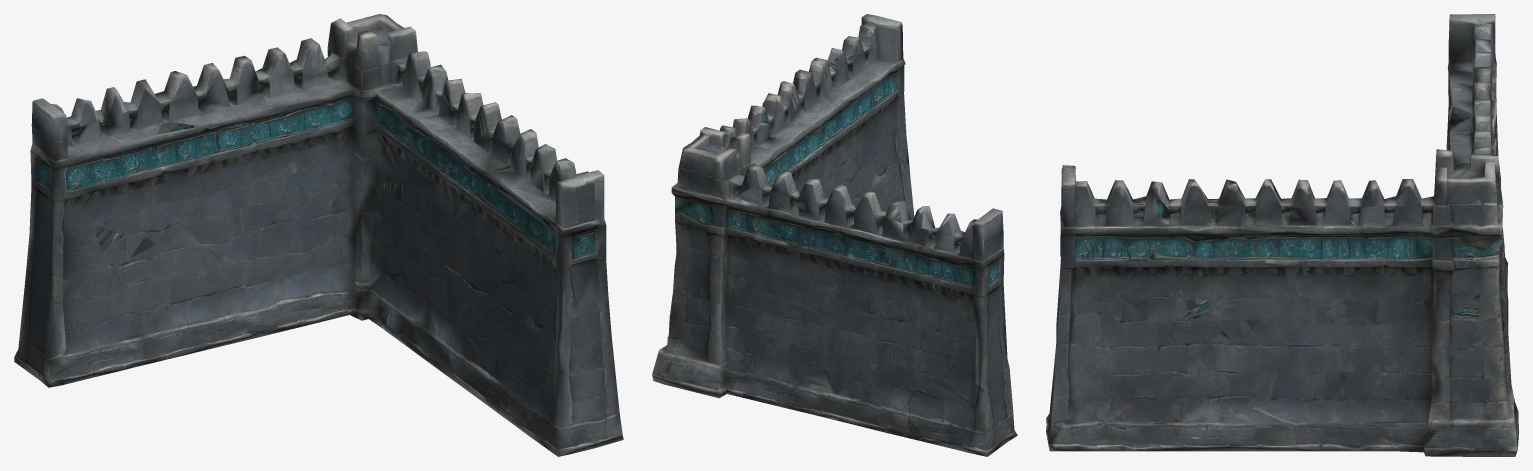
The model's file is castle_wall_corner_stone_b.glb.
3 views of the same model, side by side, from view 1: azimuth 30°, elevation 25°; view 2: azimuth 150°, elevation 25°; view 3: azimuth 270°, elevation 25° (orthographic). The views are drawn at different scales.
Parts seen in each view (by area): view 1: tripo_node_59a75486-ec68-49af-a858-95c7bcce4c6a; view 2: tripo_node_59a75486-ec68-49af-a858-95c7bcce4c6a; view 3: tripo_node_59a75486-ec68-49af-a858-95c7bcce4c6a.
Part boxes in pixels (<box>): tripo_node_59a75486-ec68-49af-a858-95c7bcce4c6a: <box>14,14,623,456</box>; tripo_node_59a75486-ec68-49af-a858-95c7bcce4c6a: <box>652,14,1017,456</box>; tripo_node_59a75486-ec68-49af-a858-95c7bcce4c6a: <box>1046,14,1518,456</box>.
Bounding box in the file's own units: 0.9133 × 0.6229 × 0.9783.
1 material, 1 textured.
